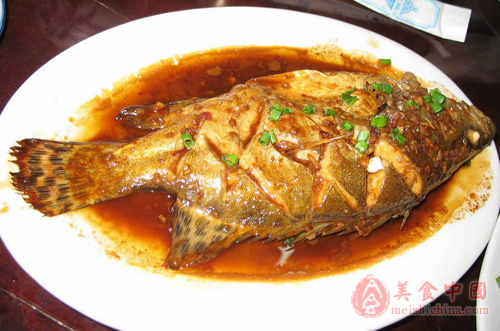fish: (15, 69, 495, 264)
